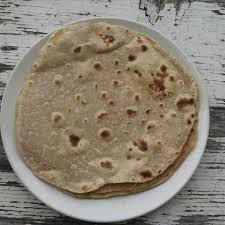roti: (18, 24, 201, 189)
